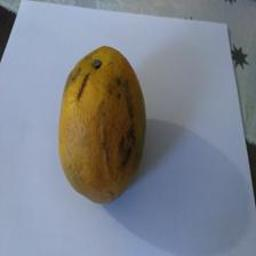Orange Semirotten: (48, 49, 166, 206)
